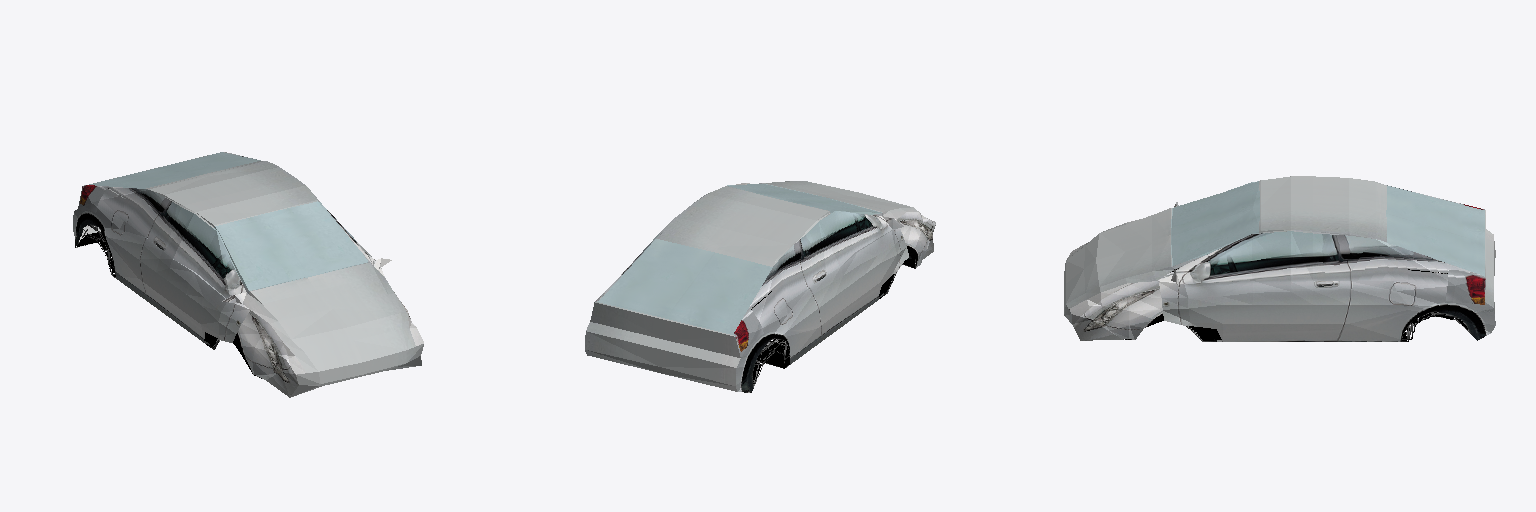
3 views of the same model, side by side, from view 1: azimuth 30°, elevation 25°; view 2: azimuth 150°, elevation 25°; view 3: azimuth 270°, elevation 25° (orthographic).
Parts seen in each view (by area): view 1: Cube; view 2: Cube; view 3: Cube.
Part boxes in pixels (bbox=[...]): Cube: bbox=[73, 152, 423, 397]; Cube: bbox=[585, 181, 935, 392]; Cube: bbox=[1064, 176, 1495, 341].
Size of the model in its own units: 4.69 by 2.76 by 10.21.
1 materials, 1 textured.